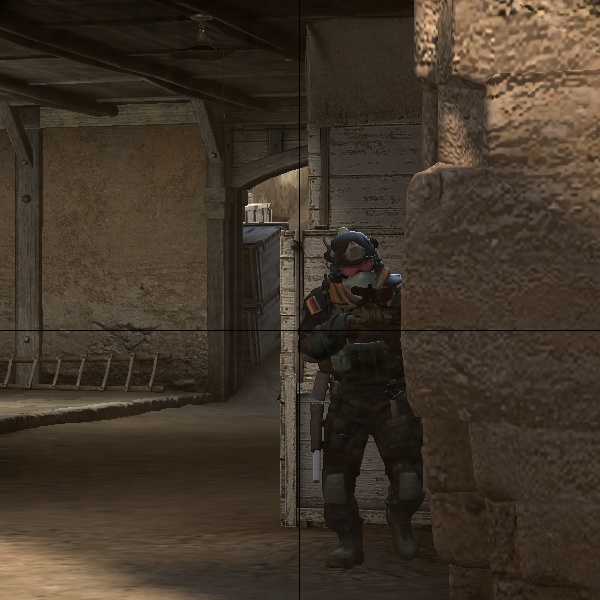ct_body: (295, 214, 429, 581)
ct_head: (326, 228, 384, 286)
